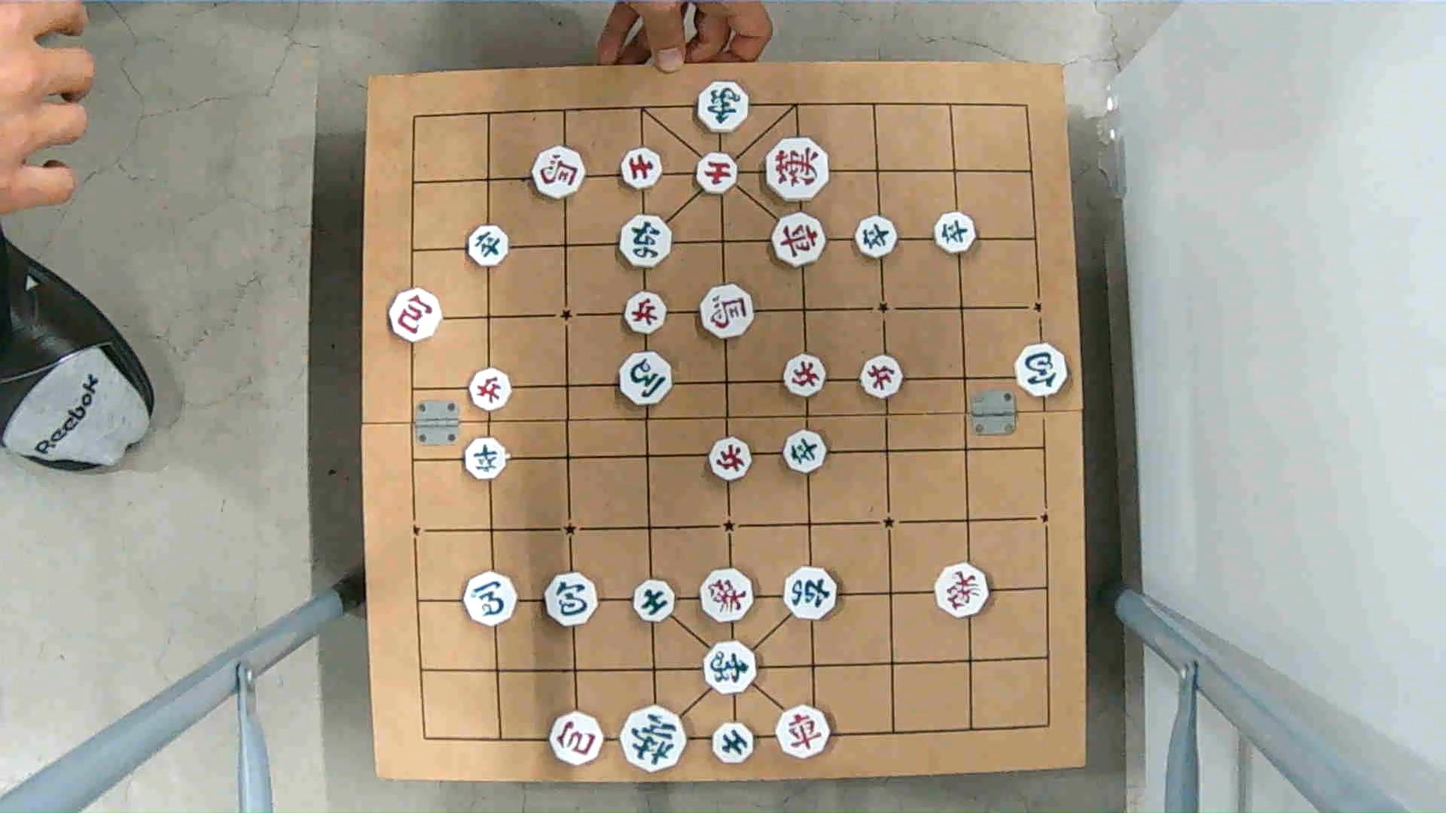cha_green: (618, 215, 673, 264), (787, 568, 836, 620)
cha_red: (778, 705, 831, 755), (773, 217, 828, 263)
jol_green: (781, 432, 827, 472), (462, 438, 509, 477), (933, 213, 978, 251), (466, 225, 510, 263), (856, 219, 901, 256)
jol_red: (706, 439, 755, 479), (859, 356, 904, 396), (782, 357, 830, 394), (623, 294, 668, 333), (467, 370, 514, 407)
ma_green: (462, 573, 520, 623), (620, 353, 671, 401)
ma_red: (698, 285, 755, 336), (532, 147, 588, 196)
po_green: (541, 574, 599, 624), (1015, 346, 1067, 392)
po_red: (547, 714, 605, 764), (388, 291, 444, 340)
sa_green: (630, 581, 679, 620), (711, 723, 758, 762)
sa_red: (620, 149, 666, 188), (693, 155, 740, 193)
sang_green: (705, 643, 754, 692), (699, 86, 745, 128)
sang_red: (935, 565, 992, 614), (699, 571, 751, 620)
wang_green: (620, 710, 688, 769)
wang_red: (767, 143, 828, 196)
